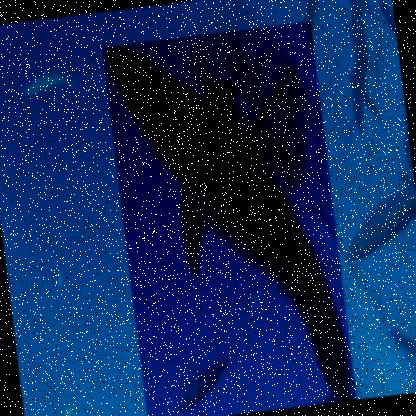white-shark: (100, 20, 358, 415)
